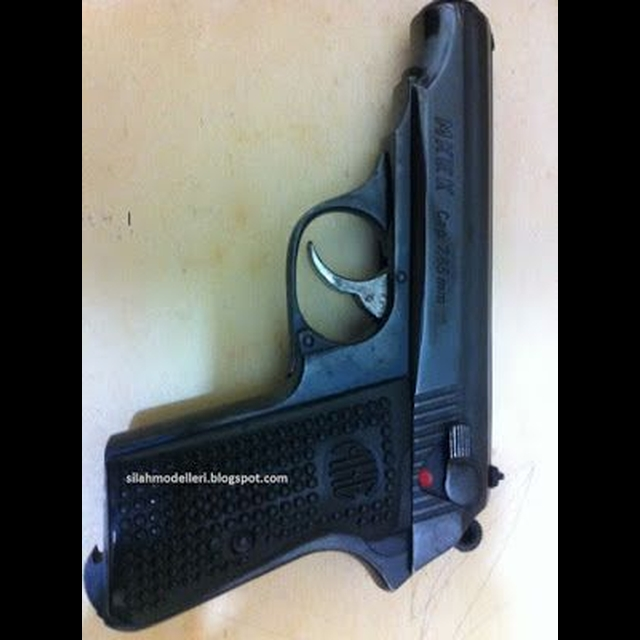SILAH: (87, 2, 511, 637)
